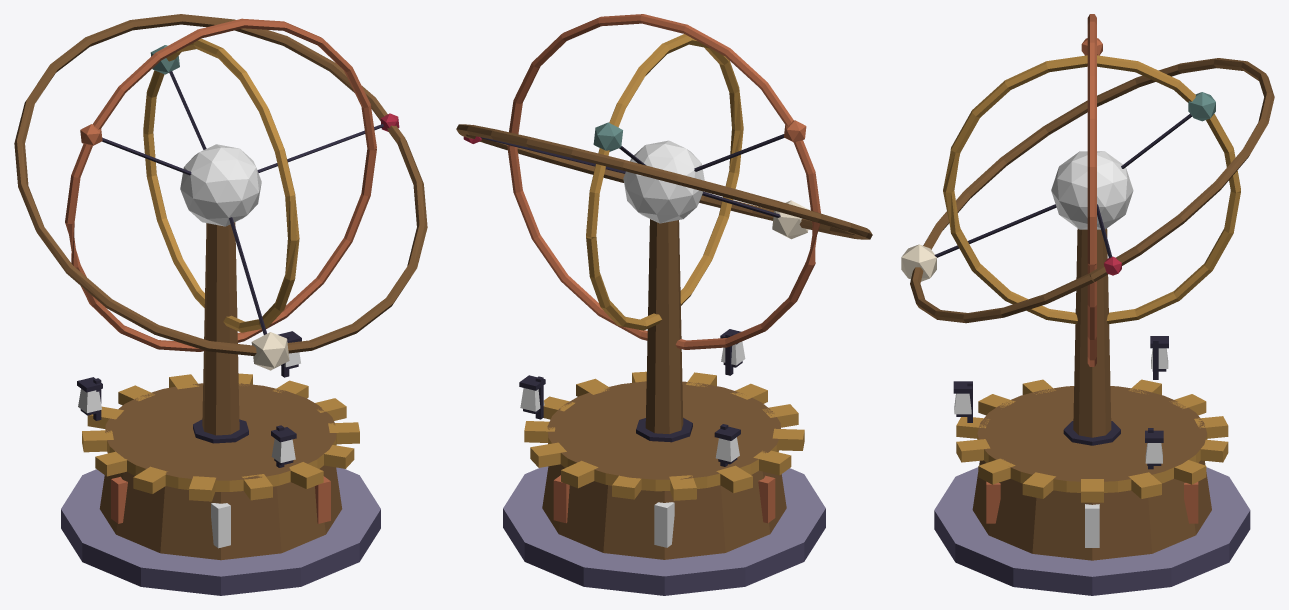
File: Fair_Orrery.fbx
3 views of the same model, side by side, from view 1: azimuth 30°, elevation 25°; view 2: azimuth 150°, elevation 25°; view 3: azimuth 270°, elevation 25° (orthographic). The views are drawn at different scales.
Visible parts, largest first — view 1: Fair_Orrery; view 2: Fair_Orrery; view 3: Fair_Orrery.
Boxes of the visible parts, <box> form: Fair_Orrery: <box>14,14,427,595</box>; Fair_Orrery: <box>456,14,872,595</box>; Fair_Orrery: <box>901,14,1274,595</box>.
Size of what is drawn, in the model's own units: 8.88 by 11.45 by 7.8.
2 materials, 1 textured.
